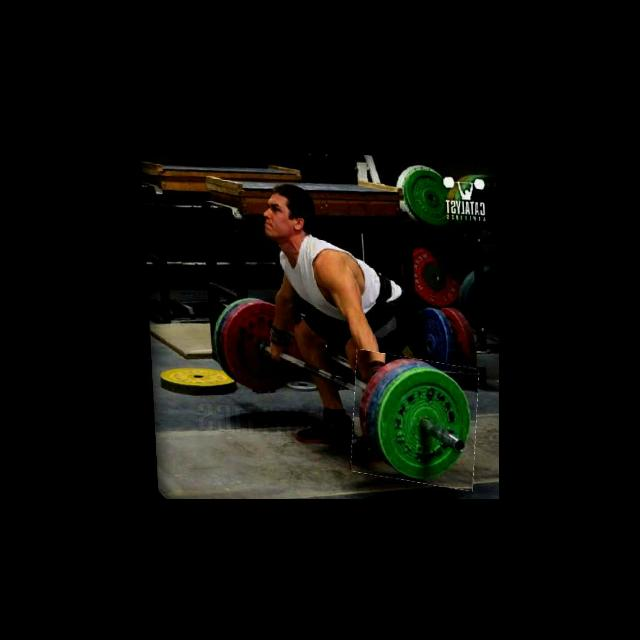barbell: (345, 349, 478, 485)
